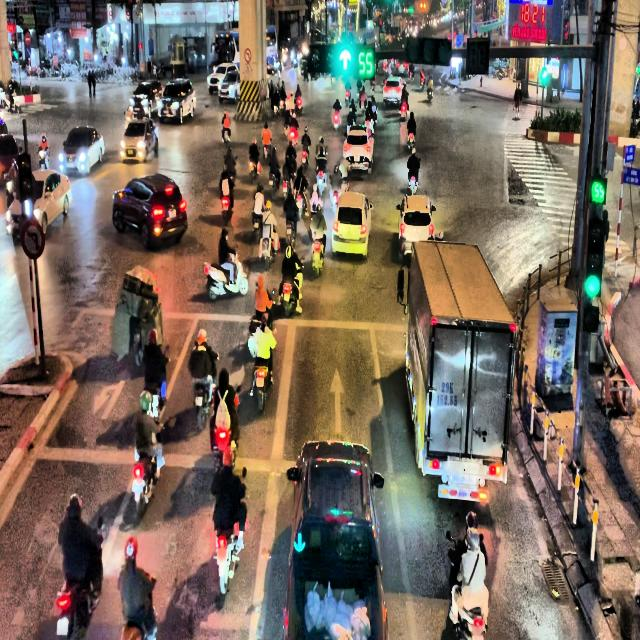lisence_plate: (438, 482, 490, 504), (436, 379, 459, 410), (165, 210, 178, 217), (352, 155, 360, 160)
